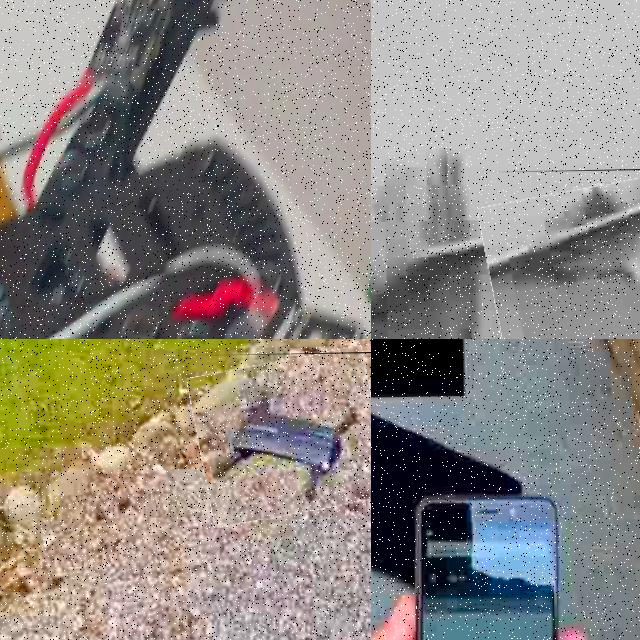0: (192, 351, 371, 520), (482, 166, 640, 339)
drone: (0, 0, 371, 339)
